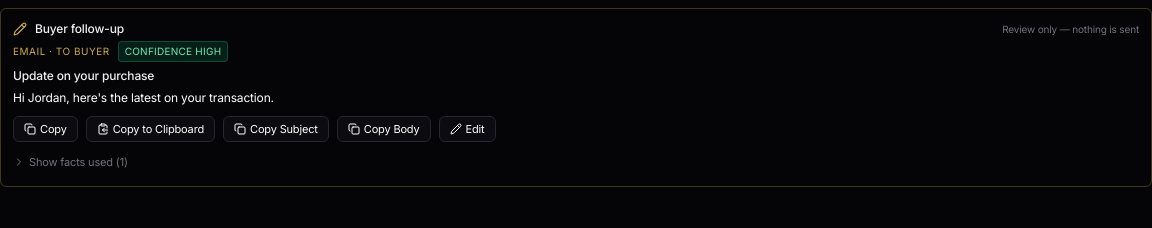
AssistantDraftCard — rich rendering › facts_used is collapsed by default, expands with friendly source names
This screenshot has width=1152, height=228.
What coordinates should you click on to do the following:
click the button with test id "assistant-draft-facts-toggle"
I would click on:
 (70, 162)
Its box is top-left (13, 154), bottom-right (128, 170).
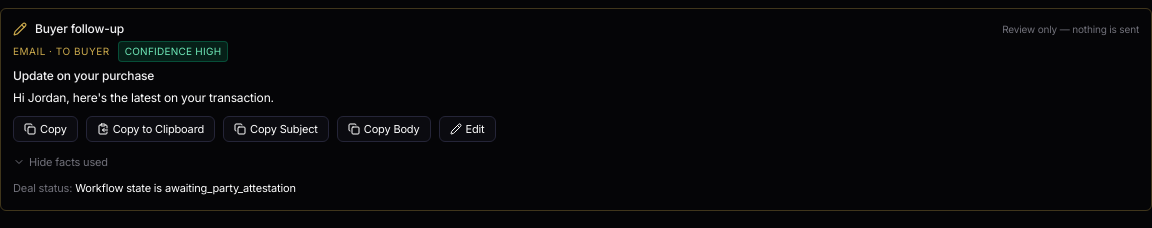
Expected: the element with test id "assistant-draft-facts" does not show "Coordinator", top-left (13, 181), bottom-right (296, 195)
Result: the element with test id "assistant-draft-facts" shows "Deal status" at top-left (13, 181), bottom-right (69, 195)
